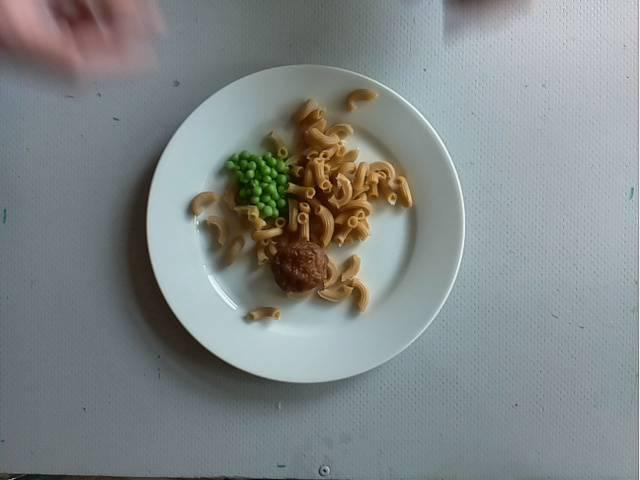Full grain pasta + peas + meatball: (190, 105, 411, 323)
